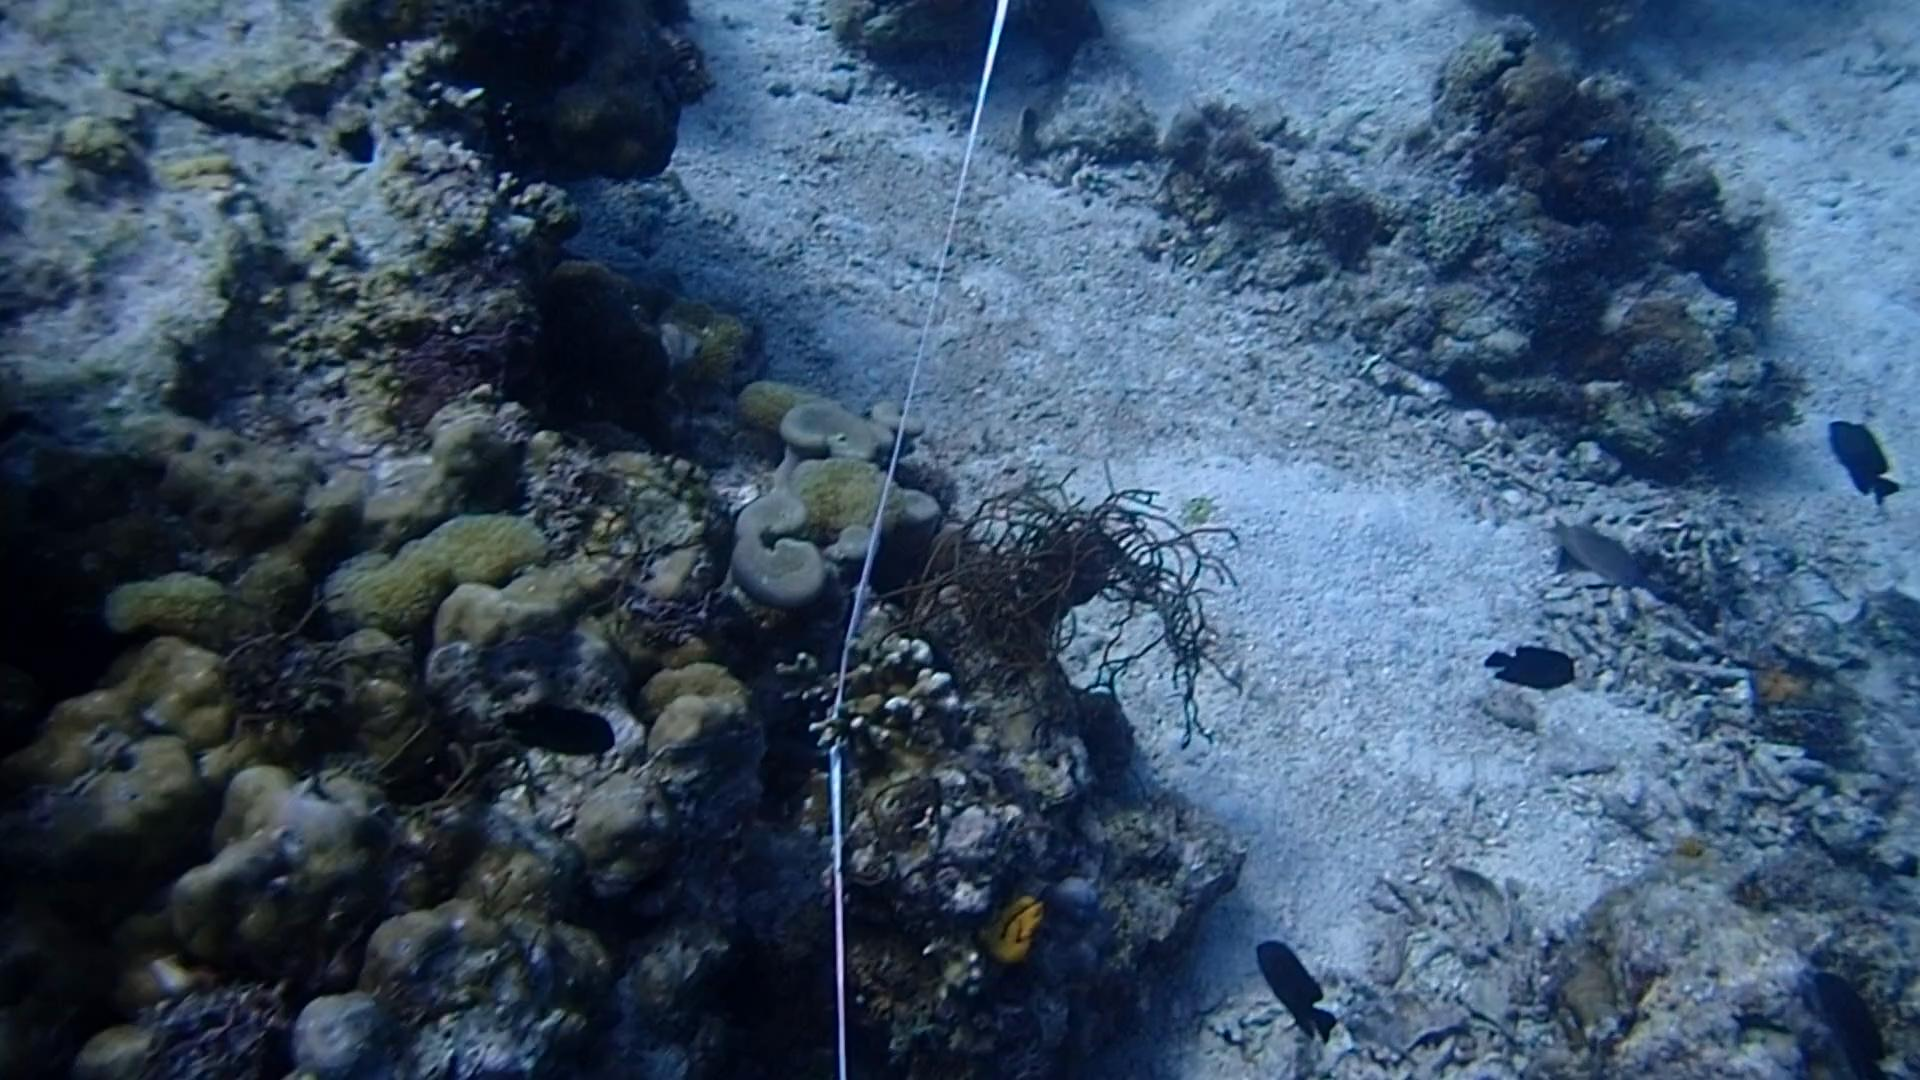Dark Fish: (1800, 955, 1890, 1080), (1251, 940, 1345, 1059), (1822, 405, 1916, 508), (1477, 634, 1573, 719)
Light Fish: (1539, 508, 1651, 588)
